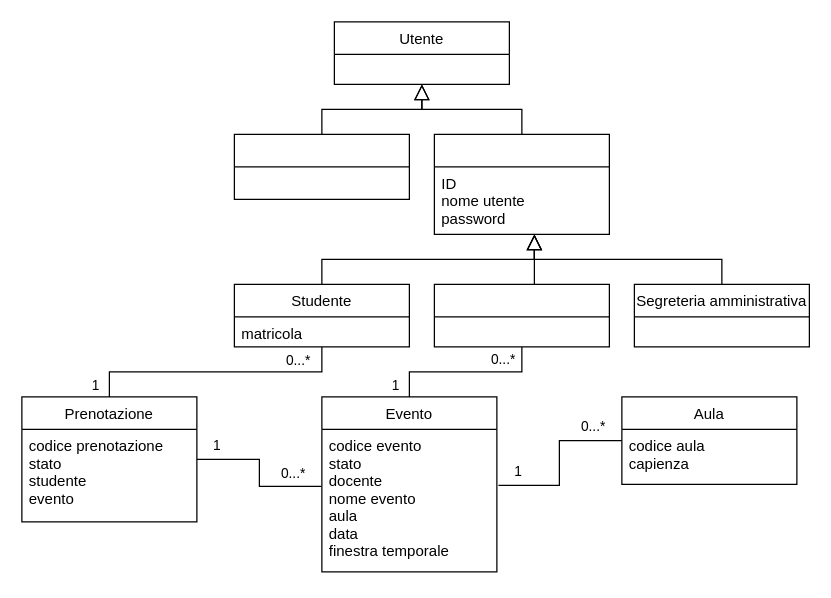
This 831x598 diagram has some shape labels left out. Each missing label, with the box of its shape:
Docente: (433, 283, 609, 347)
Utente autenticato: (433, 133, 609, 234)
Utente non autenticato: (233, 133, 409, 199)
